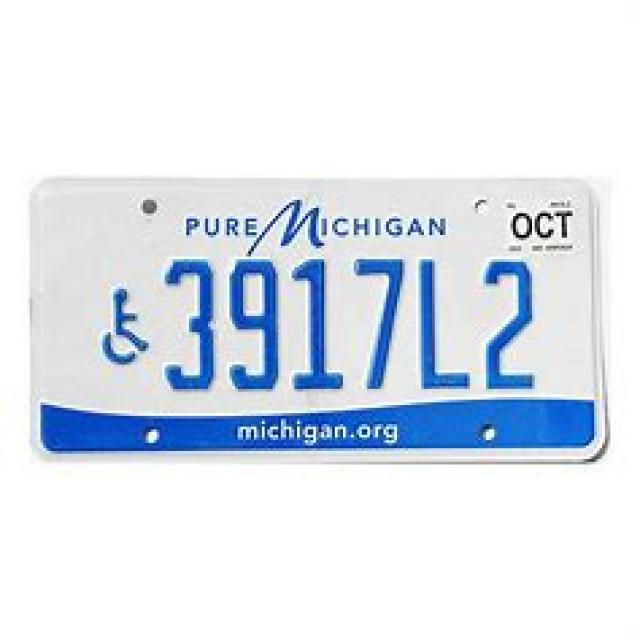symbol_of_access: (100, 286, 151, 375)
